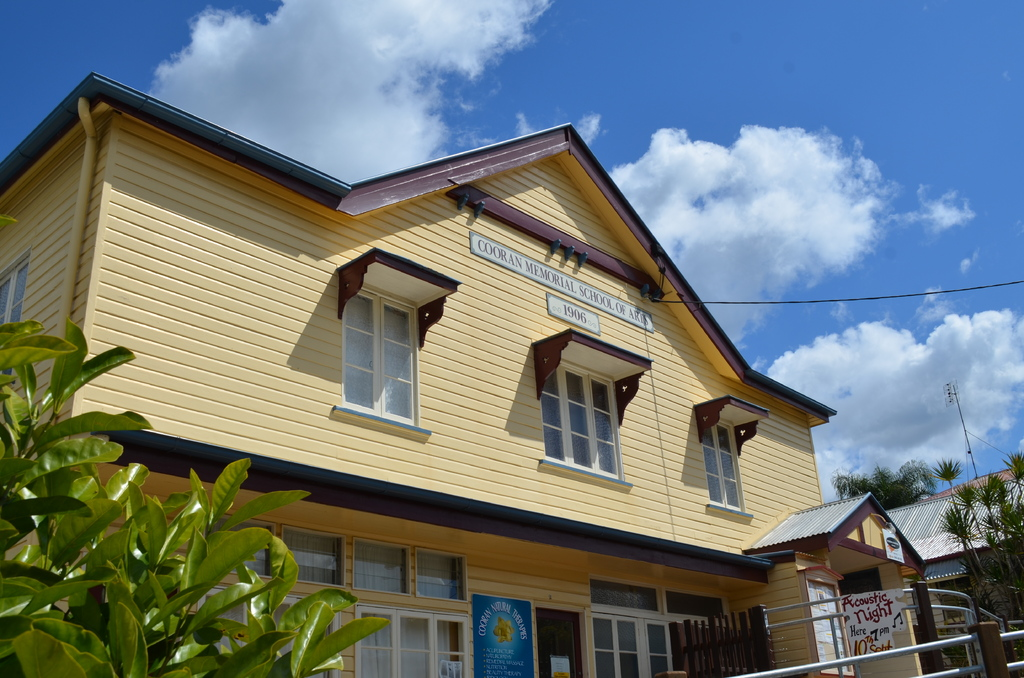Door: (534, 608, 586, 677)
